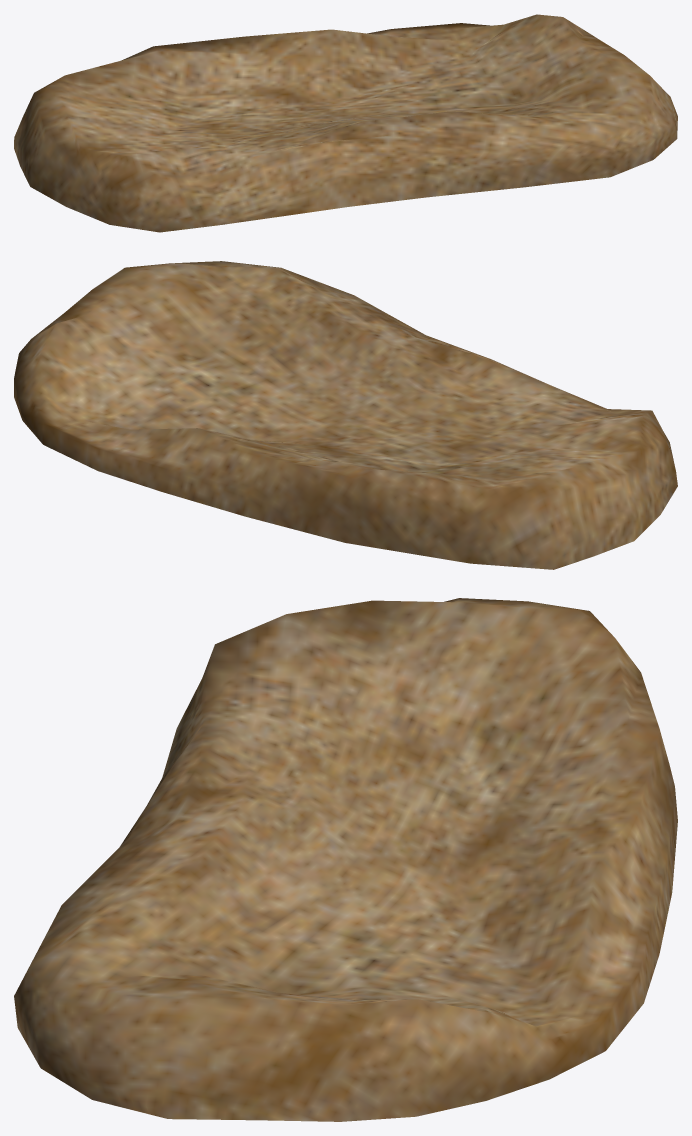
The model's file is Hay mat 3.fbx.
The picture shows the model from 3 angles, top to bottom: view 1: azimuth 30°, elevation 25°; view 2: azimuth 150°, elevation 25°; view 3: azimuth 270°, elevation 25°; orthographic projection. The views are drawn at different scales.
Parts seen in each view (by area): view 1: Hay mat 3; view 2: Hay mat 3; view 3: Hay mat 3.
Part boxes in pixels (left/top/right/bottom): Hay mat 3: left=14, top=14, right=677, bottom=232; Hay mat 3: left=14, top=261, right=677, bottom=569; Hay mat 3: left=14, top=598, right=677, bottom=1121.
Bounding box in the file's own units: 1.2 × 0.1254 × 0.7465.
